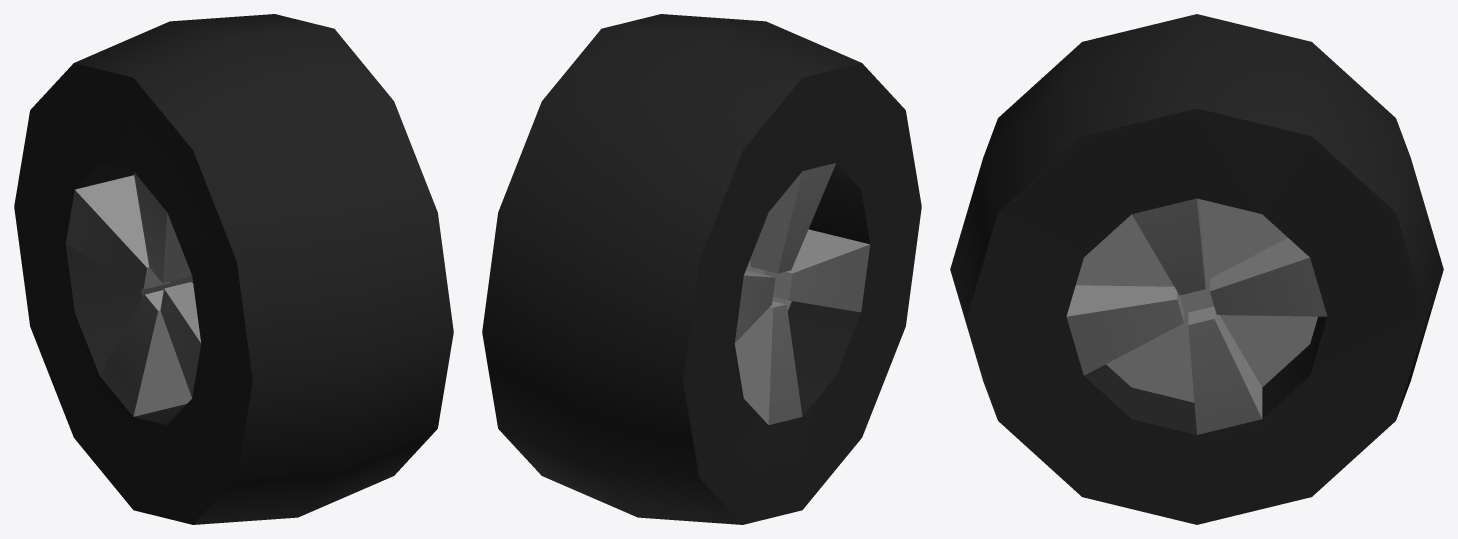
File: wheel1.glb
The picture shows the model from 3 angles, left to right: view 1: azimuth 30°, elevation 25°; view 2: azimuth 150°, elevation 25°; view 3: azimuth 270°, elevation 25°; orthographic projection. The views are drawn at different scales.
Visible parts, largest first — view 1: Cylinder.001; view 2: Cylinder.001; view 3: Cylinder.001.
Part boxes in pixels (<box>): Cylinder.001: <box>14,14,453,524</box>; Cylinder.001: <box>482,14,921,524</box>; Cylinder.001: <box>950,14,1443,524</box>.
Size of the model in its own units: 0.2741 by 0.6054 by 0.6054.
Materials: 1 (1 with a texture image).
